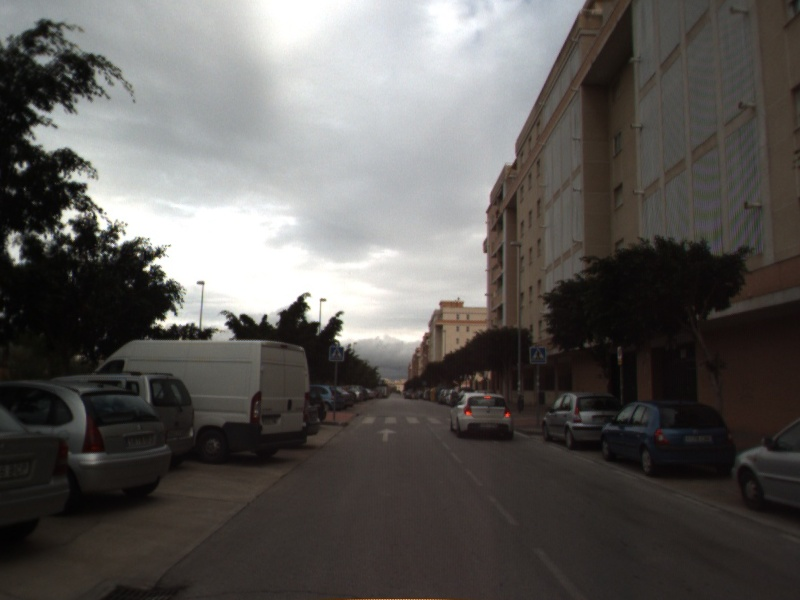STRAIGHT: (375, 426, 399, 443)
